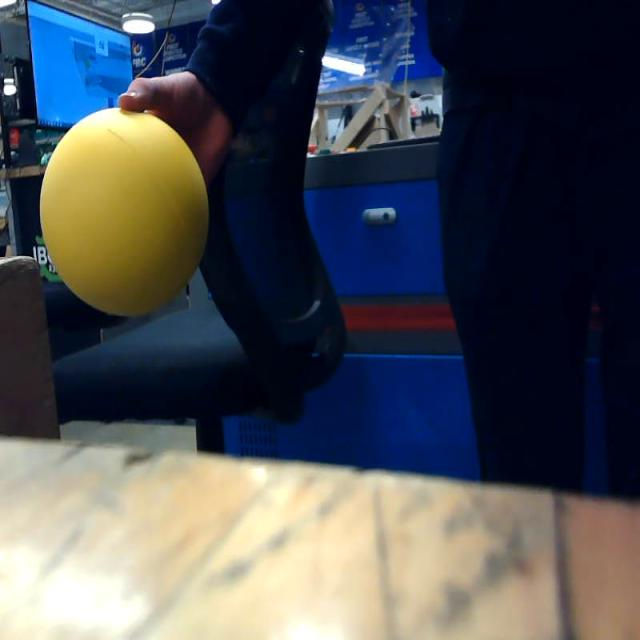Fuel: (40, 107, 209, 317)
